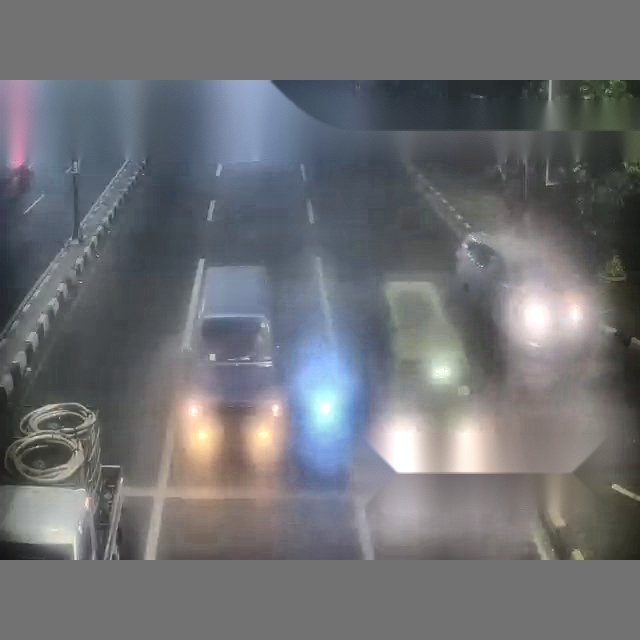Mobil: (0, 402, 120, 558)
